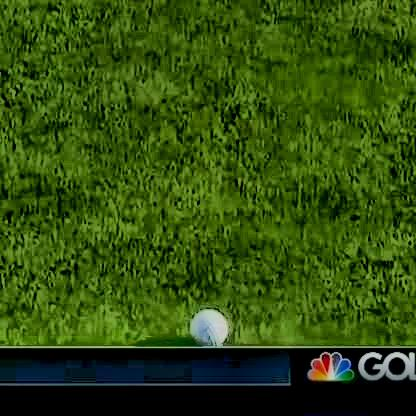golfball: (186, 309, 228, 345)
